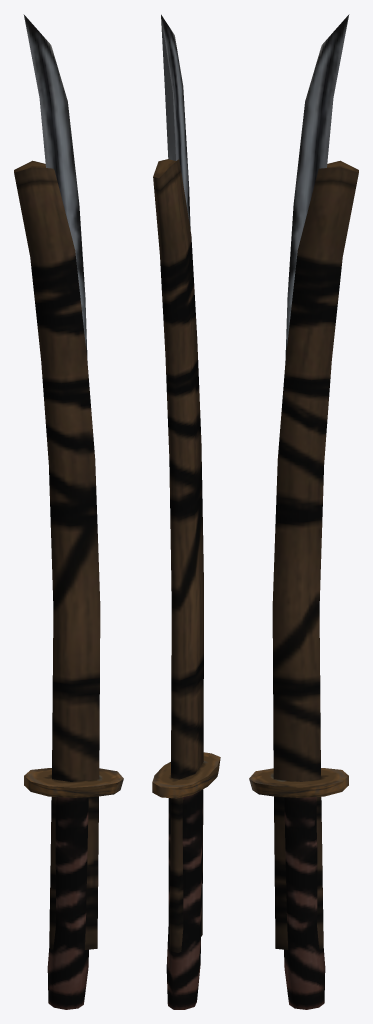
File: WP_2H_Nodachi01.FBX
The picture shows the model from 3 angles, left to right: view 1: azimuth 90°, elevation 25°; view 2: azimuth 150°, elevation 25°; view 3: azimuth 270°, elevation 25°; orthographic projection.
Parts seen in each view (by area): view 1: WP_2H_NdachiScabbard01, WP_2H_Nodachi01; view 2: WP_2H_NdachiScabbard01, WP_2H_Nodachi01; view 3: WP_2H_NdachiScabbard01, WP_2H_Nodachi01.
Part boxes in pixels (x1,y1,x2,y2): WP_2H_NdachiScabbard01: [14, 160, 100, 949]; WP_2H_Nodachi01: [23, 14, 123, 1009]; WP_2H_NdachiScabbard01: [153, 159, 203, 952]; WP_2H_Nodachi01: [152, 14, 220, 1009]; WP_2H_NdachiScabbard01: [272, 160, 358, 949]; WP_2H_Nodachi01: [249, 14, 349, 1009].
Bounding box in the file's own units: 7.22 × 158 × 15.9.
